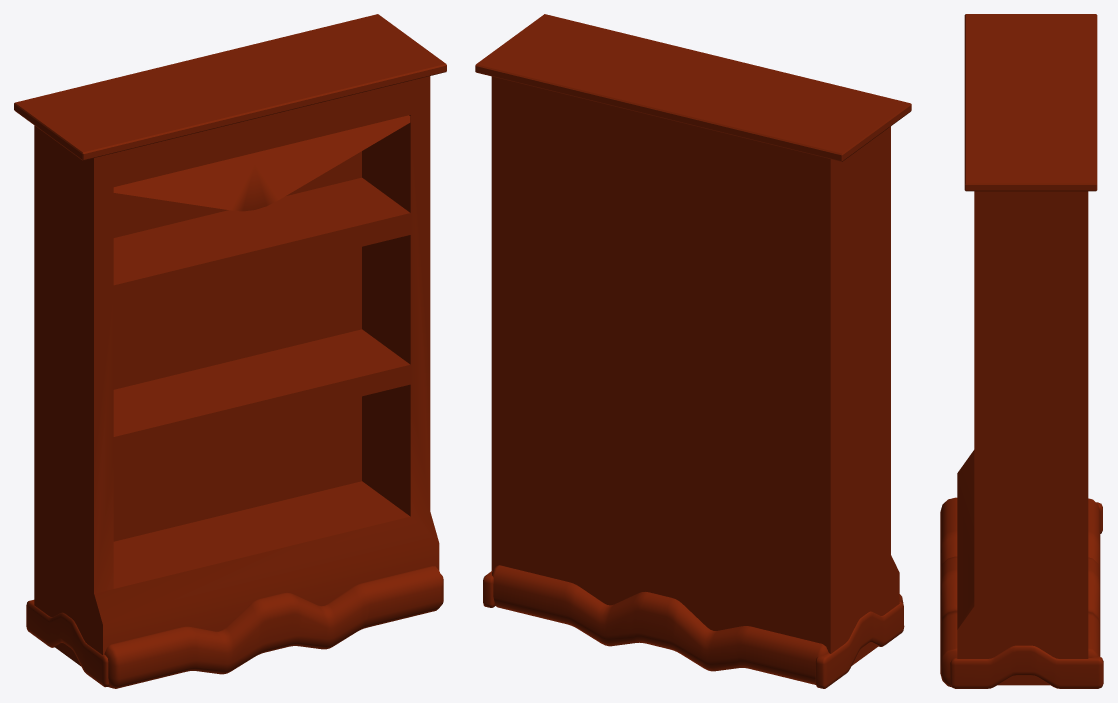
Rendered from Bookshelf_small.fbx.
3 views of the same model, side by side, from view 1: azimuth 30°, elevation 25°; view 2: azimuth 150°, elevation 25°; view 3: azimuth 270°, elevation 25° (orthographic). The views are drawn at different scales.
Parts seen in each view (by area): view 1: Bookshelf_small1; view 2: Bookshelf_small1; view 3: Bookshelf_small1.
Boxes of the visible parts, x1,y1,x2,y2 form: Bookshelf_small1: (14,14,446,688); Bookshelf_small1: (475,14,911,688); Bookshelf_small1: (940,14,1103,688).
Size of the model in its own units: 2.64 by 3.8 by 1.07.
